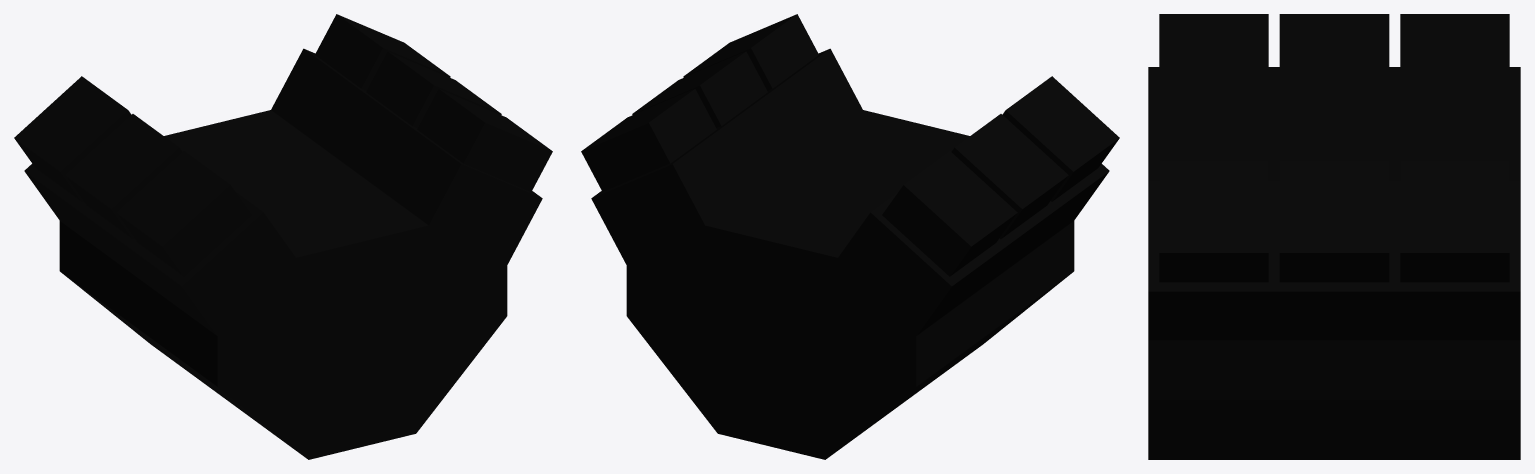
File: v6insolvoauto.obj
The picture shows the model from 3 angles, left to right: view 1: azimuth 30°, elevation 25°; view 2: azimuth 150°, elevation 25°; view 3: azimuth 270°, elevation 25°; orthographic projection. The views are drawn at different scales.
Visible parts, largest first — view 1: cube; view 2: cube; view 3: cube.
Part boxes in pixels (x1,y1,x2,y2): cube: [14, 14, 552, 459]; cube: [581, 14, 1119, 459]; cube: [1148, 14, 1520, 459].
Size of the model in its own units: 0.8872 by 0.629 by 0.6215.
